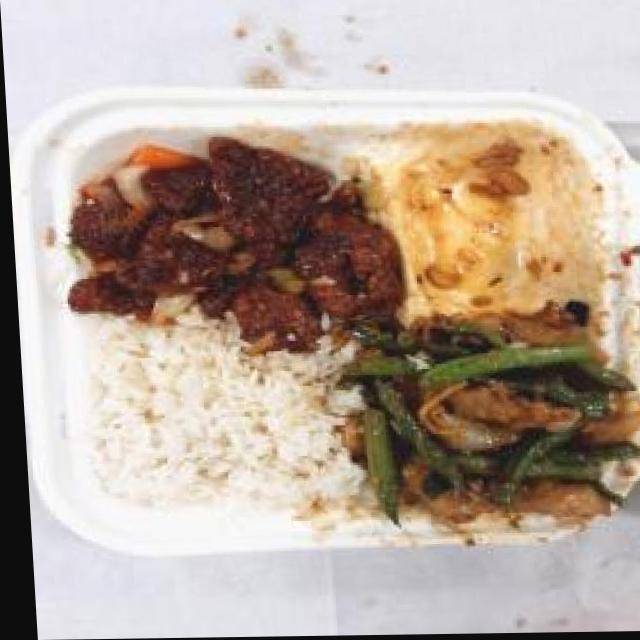Beijing Beef: (54, 128, 397, 349)
String Bean Chicken Breast: (343, 328, 640, 529)
White Steamed Rice: (78, 331, 344, 517)
